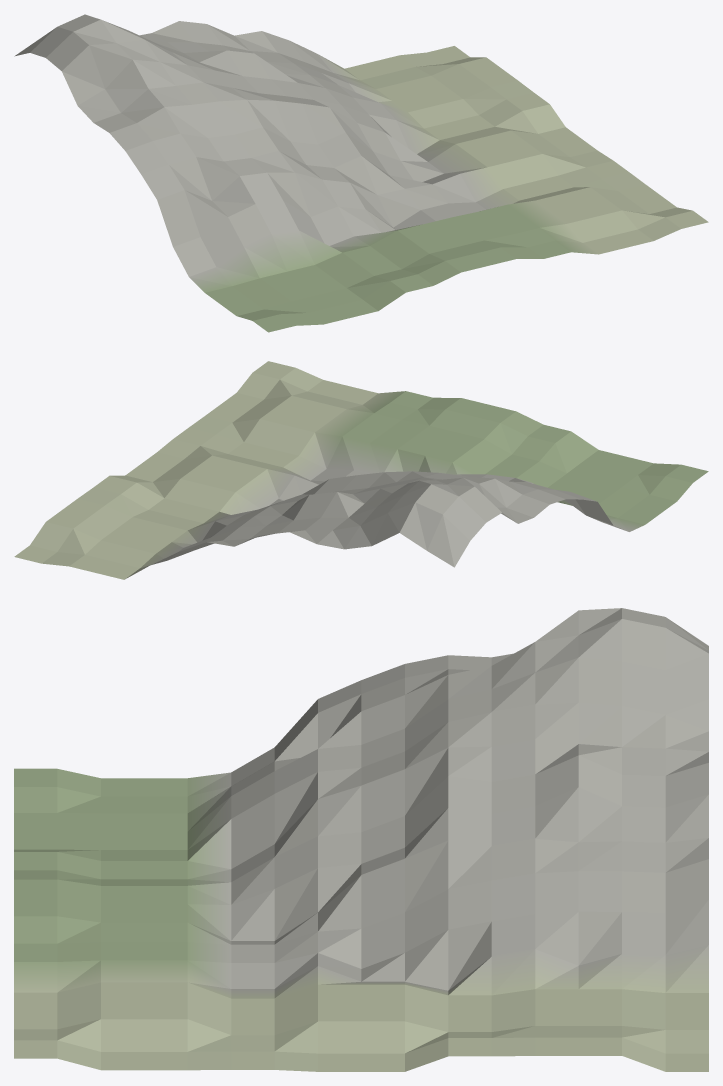
3 renders of one model, top to bottom at view 1: azimuth 30°, elevation 25°; view 2: azimuth 150°, elevation 25°; view 3: azimuth 270°, elevation 25°, orthographic. The views are drawn at different scales.
Size of the model in its own units: 32 by 10.78 by 32.
